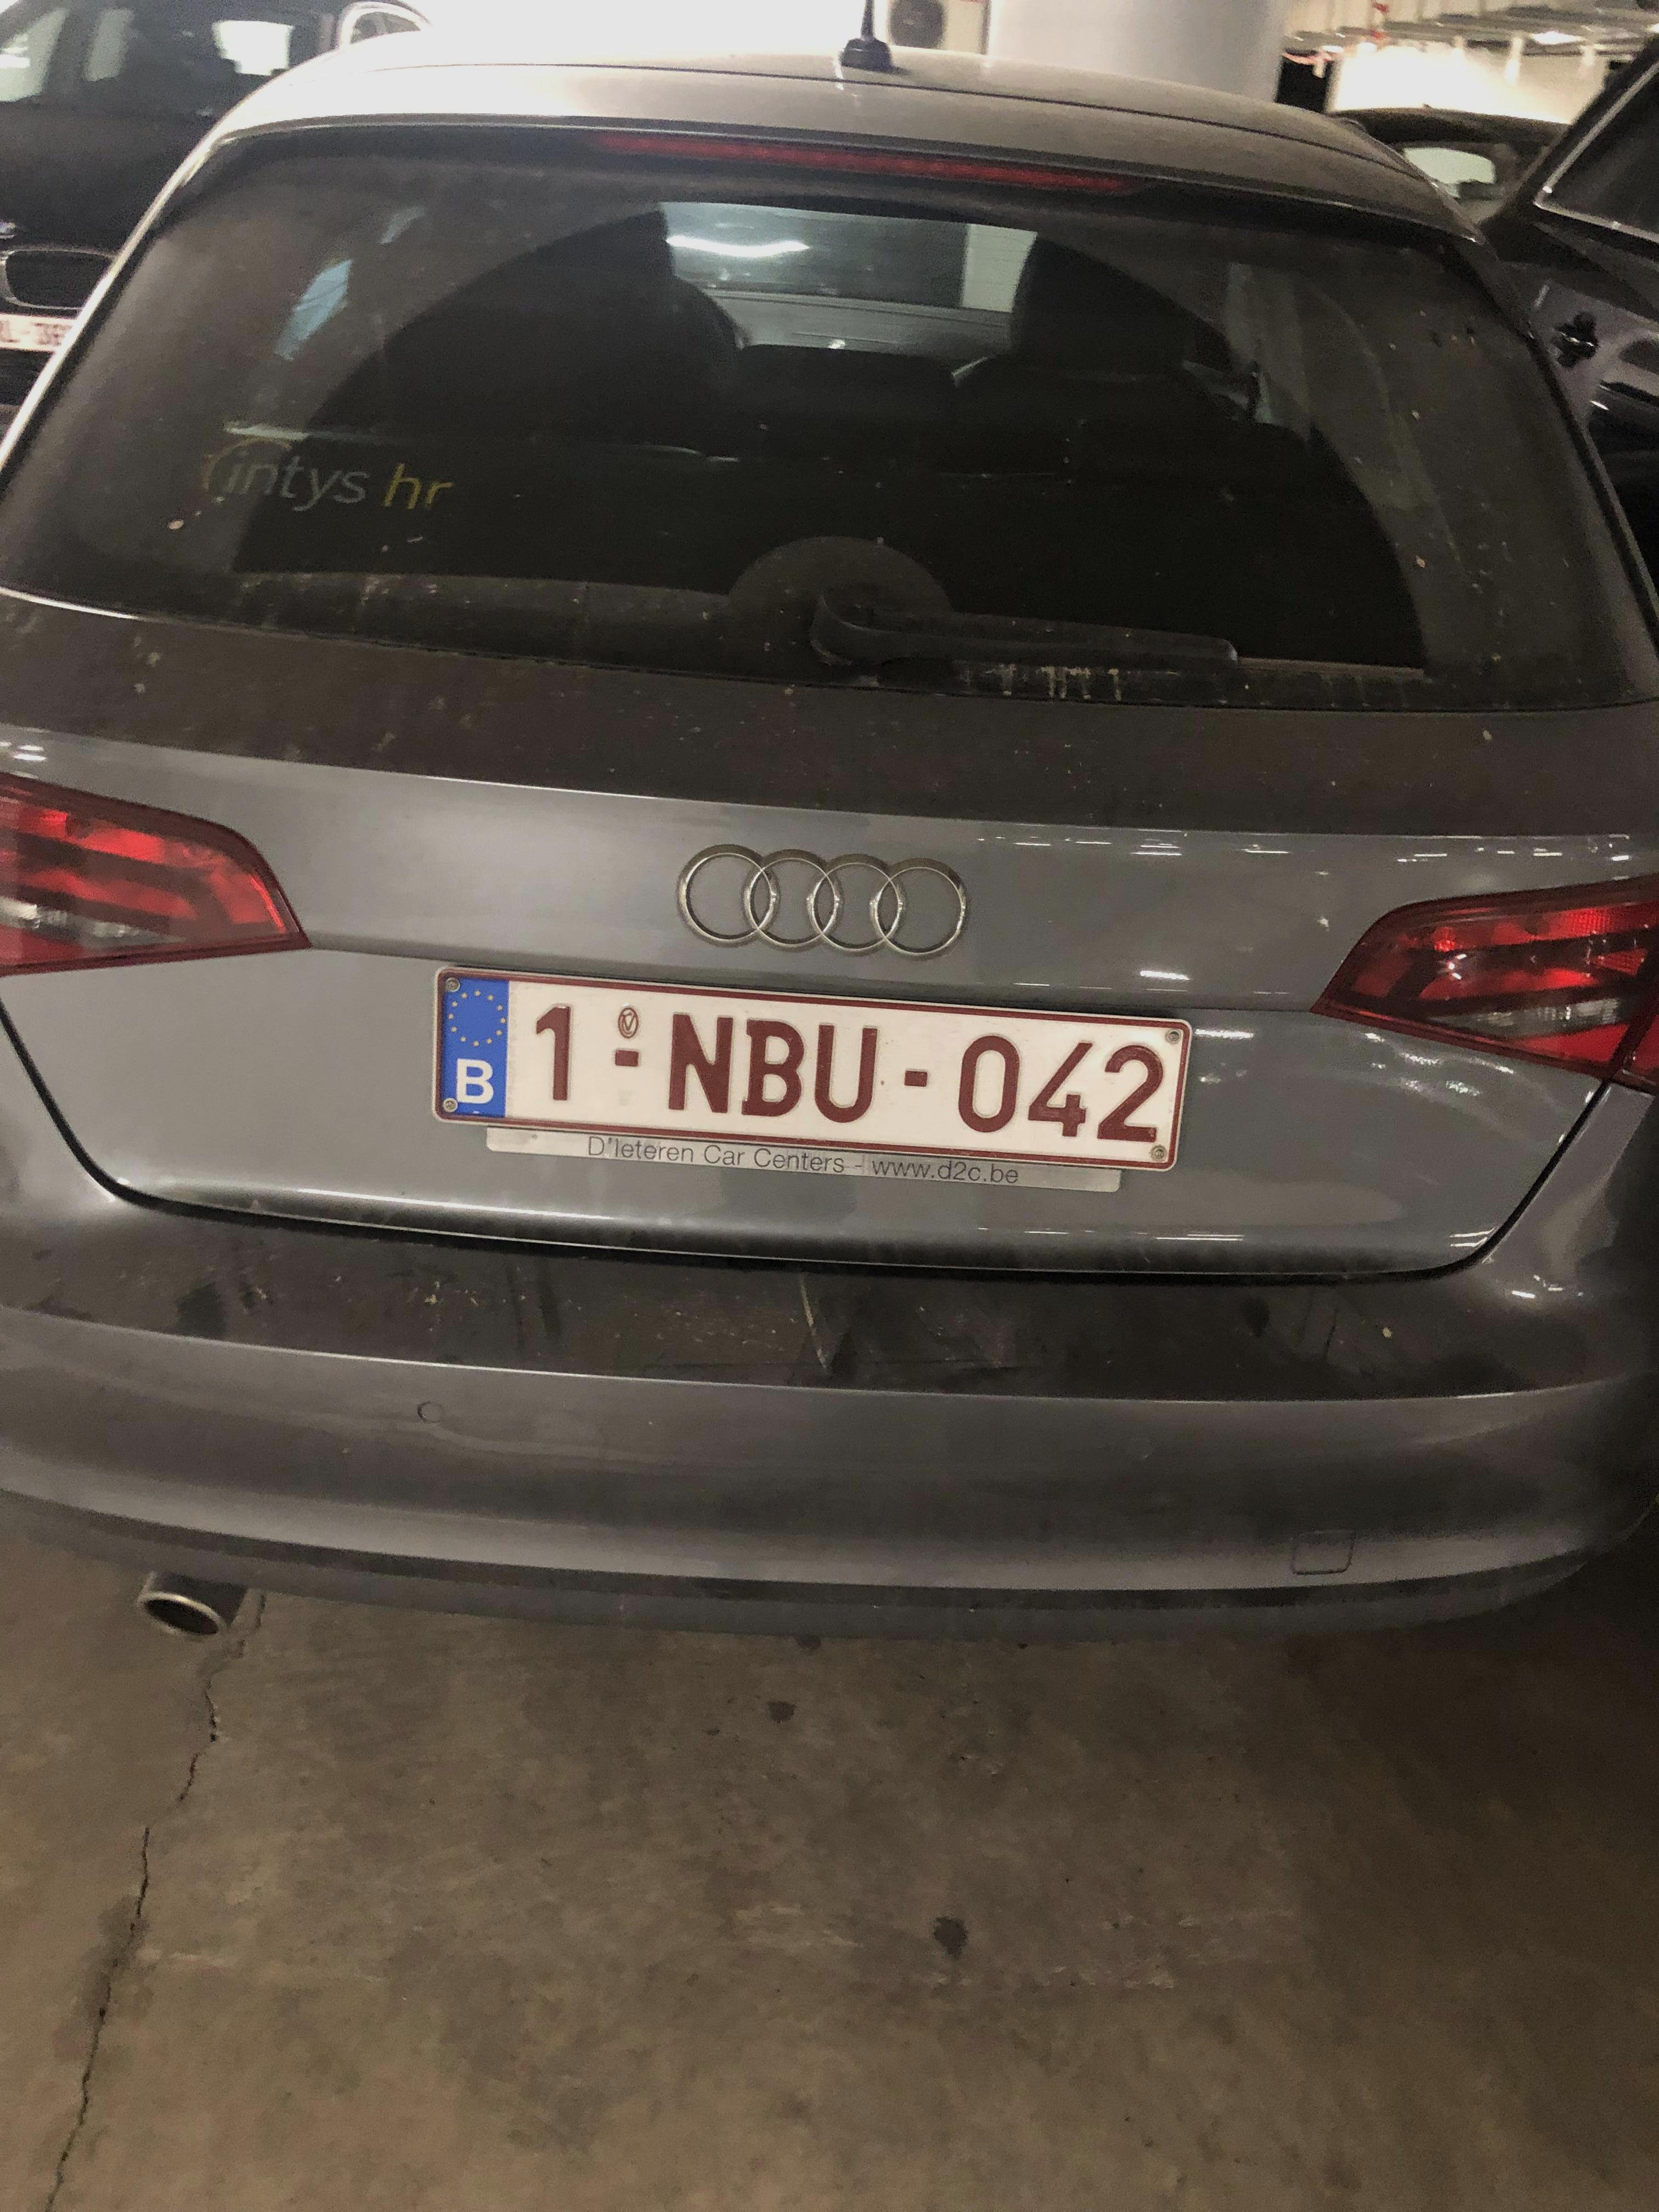plate: (420, 943, 1204, 1182)
